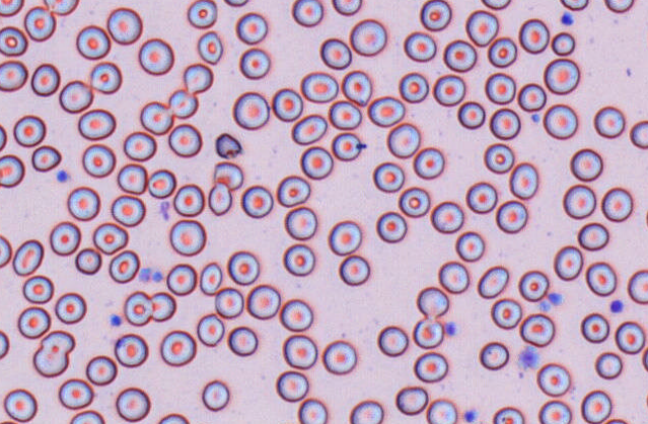PLT: (519, 348, 539, 370), (607, 297, 626, 316), (463, 407, 481, 424), (137, 266, 154, 283), (445, 321, 461, 338), (560, 11, 576, 27), (549, 291, 566, 306), (107, 313, 123, 328), (56, 169, 71, 183), (151, 270, 164, 284), (538, 301, 552, 314), (531, 111, 542, 123)
RBC: (32, 330, 75, 377), (232, 91, 270, 130), (349, 18, 386, 56), (159, 329, 196, 366), (169, 219, 206, 256), (106, 6, 142, 44), (138, 37, 174, 75), (321, 339, 357, 375), (543, 58, 579, 94), (327, 219, 362, 255), (77, 108, 116, 140), (115, 386, 150, 421), (282, 334, 317, 369), (75, 24, 110, 59), (543, 103, 577, 139), (386, 122, 420, 158), (562, 183, 596, 219), (246, 283, 280, 319), (465, 9, 498, 46), (300, 71, 338, 103), (367, 95, 405, 127), (139, 100, 173, 135), (58, 79, 93, 113), (519, 313, 554, 347), (81, 143, 115, 178), (66, 186, 100, 221), (23, 5, 56, 41), (12, 238, 43, 276), (3, 388, 37, 422), (114, 333, 148, 367), (536, 362, 570, 396), (569, 147, 603, 181), (168, 123, 202, 157), (442, 39, 477, 72), (92, 222, 128, 254), (291, 113, 327, 145), (601, 186, 633, 222), (284, 206, 317, 240), (279, 298, 313, 331), (276, 174, 310, 207), (300, 145, 333, 179), (430, 200, 464, 233), (240, 184, 273, 218), (110, 194, 145, 226), (227, 250, 259, 285), (58, 378, 94, 409), (341, 69, 372, 105), (508, 162, 538, 199), (89, 61, 122, 94), (432, 73, 465, 106), (282, 243, 315, 276), (580, 389, 612, 423), (271, 87, 303, 121), (495, 199, 527, 233), (413, 351, 448, 382), (585, 261, 616, 296), (49, 220, 80, 255), (518, 18, 549, 53), (17, 306, 50, 338), (275, 370, 308, 402), (319, 37, 352, 69), (375, 210, 407, 243), (412, 146, 444, 179), (403, 30, 436, 62), (477, 265, 509, 298), (235, 12, 268, 44), (13, 114, 45, 147), (593, 105, 625, 138), (614, 320, 645, 354), (108, 249, 139, 283), (173, 183, 204, 217), (553, 245, 583, 280), (123, 290, 152, 326), (338, 254, 370, 286), (54, 292, 86, 324), (490, 297, 522, 329), (238, 47, 270, 79), (484, 72, 516, 104), (465, 181, 497, 213), (416, 286, 449, 317), (123, 130, 156, 161), (438, 260, 469, 293), (30, 62, 60, 96), (182, 62, 213, 94), (398, 186, 430, 217), (419, 0, 451, 31), (372, 161, 404, 192), (398, 71, 429, 103), (166, 263, 197, 295), (518, 269, 549, 301), (489, 107, 520, 139), (395, 385, 428, 415), (328, 100, 361, 130), (412, 317, 443, 348), (116, 163, 147, 194), (227, 325, 258, 356), (377, 325, 408, 356), (483, 142, 514, 173), (85, 355, 117, 385), (487, 36, 517, 68), (331, 132, 364, 161), (214, 287, 244, 318), (577, 221, 609, 250), (196, 313, 224, 346), (168, 89, 198, 119), (212, 161, 243, 190), (22, 274, 53, 303), (455, 231, 484, 262), (580, 312, 609, 343), (201, 379, 229, 411), (197, 30, 223, 64), (479, 341, 509, 370), (147, 168, 176, 198), (517, 82, 546, 112), (0, 59, 27, 91), (291, 0, 323, 27), (31, 144, 61, 172), (187, 0, 217, 28), (0, 25, 27, 56), (207, 182, 232, 215), (0, 154, 25, 187), (349, 399, 383, 423), (457, 100, 485, 129), (538, 399, 571, 423), (74, 247, 102, 275), (594, 351, 622, 379), (199, 261, 222, 295), (150, 291, 176, 321), (297, 397, 327, 423), (426, 398, 457, 423), (627, 269, 647, 304), (551, 31, 575, 56), (492, 406, 524, 423), (43, 0, 79, 15), (629, 119, 647, 148), (69, 409, 104, 423), (331, 0, 362, 15), (604, 0, 634, 13), (0, 0, 24, 16), (0, 234, 11, 267), (157, 413, 189, 423), (481, 0, 511, 10), (559, 0, 588, 10), (0, 329, 9, 359), (0, 122, 7, 151), (223, 0, 249, 7), (642, 345, 647, 371), (603, 418, 628, 423), (0, 420, 18, 424), (645, 208, 648, 228)
Schistocyte: (215, 131, 245, 161)
